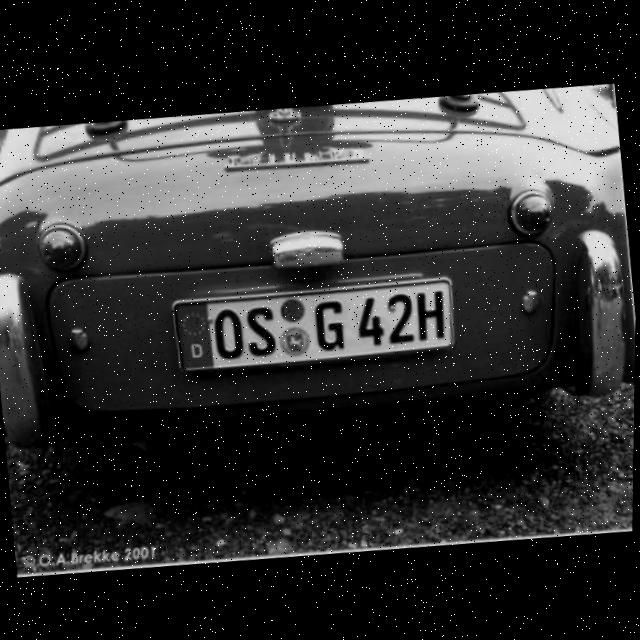license-plates: (173, 279, 454, 372)
